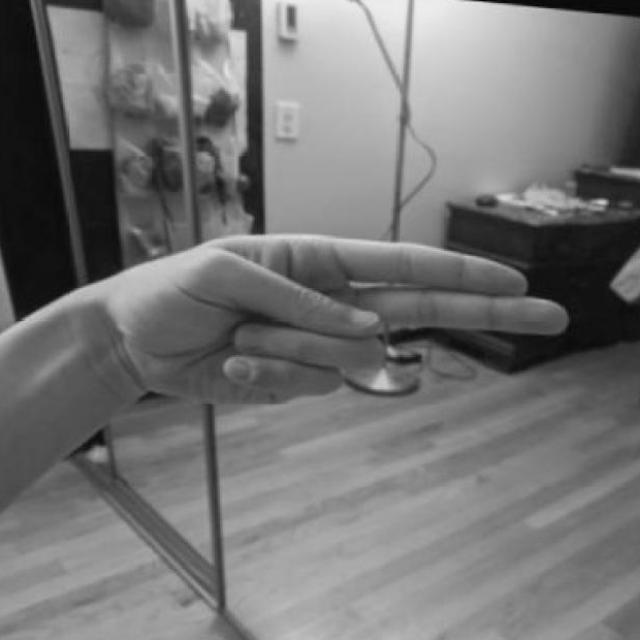H: (80, 210, 576, 413)
